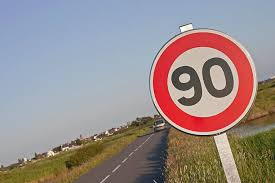Speed_limit_90km: (147, 29, 258, 135)
